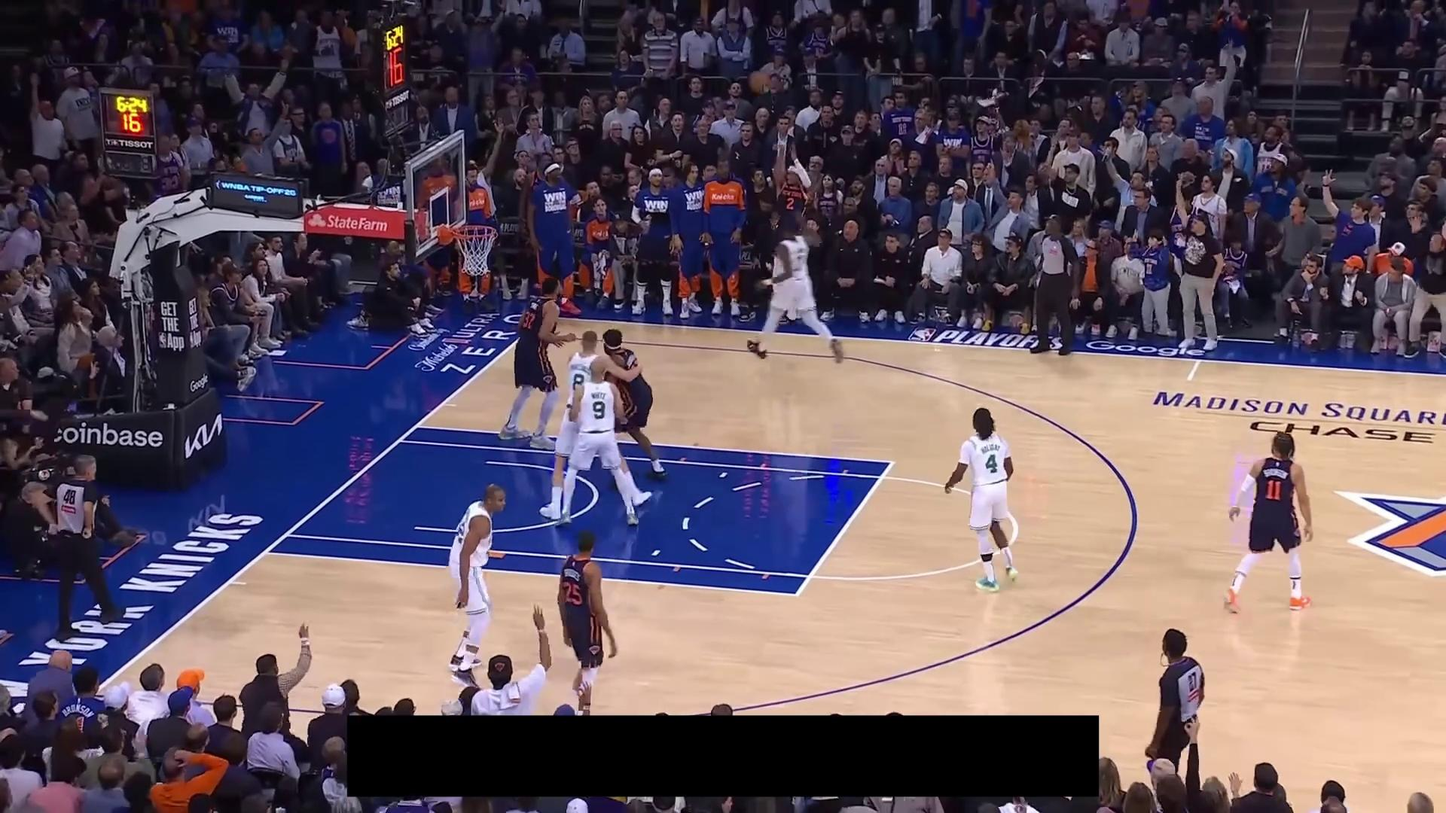ball: (748, 71, 771, 93)
number: (564, 581, 582, 606), (1264, 479, 1283, 501), (985, 452, 999, 473), (592, 400, 606, 420), (522, 311, 535, 330), (572, 373, 585, 389), (786, 197, 795, 209)
player: (539, 331, 652, 519), (1225, 430, 1315, 615), (943, 406, 1022, 594), (554, 355, 639, 528), (746, 219, 846, 364), (497, 275, 578, 450), (444, 481, 506, 689), (555, 528, 620, 714), (602, 328, 670, 482)
player-jump-shot: (772, 141, 811, 242)
referee: (31, 453, 127, 642), (1146, 629, 1206, 792), (1030, 214, 1084, 359)
rim: (453, 224, 498, 239)
